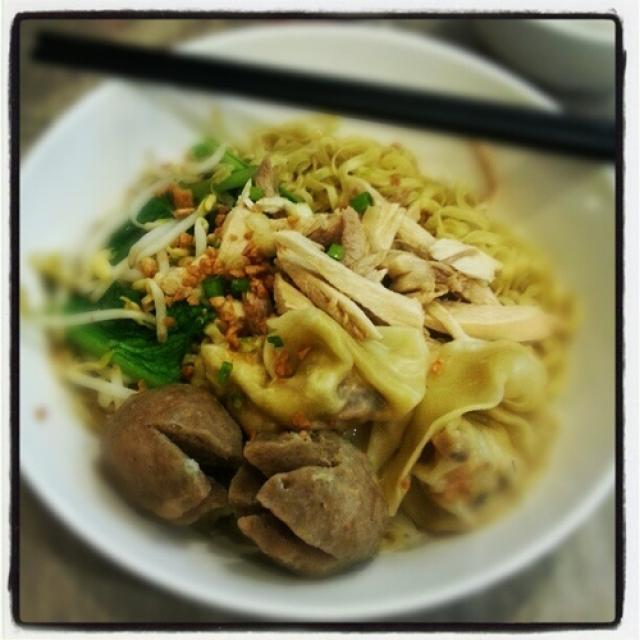面条主食: (37, 67, 595, 604)
